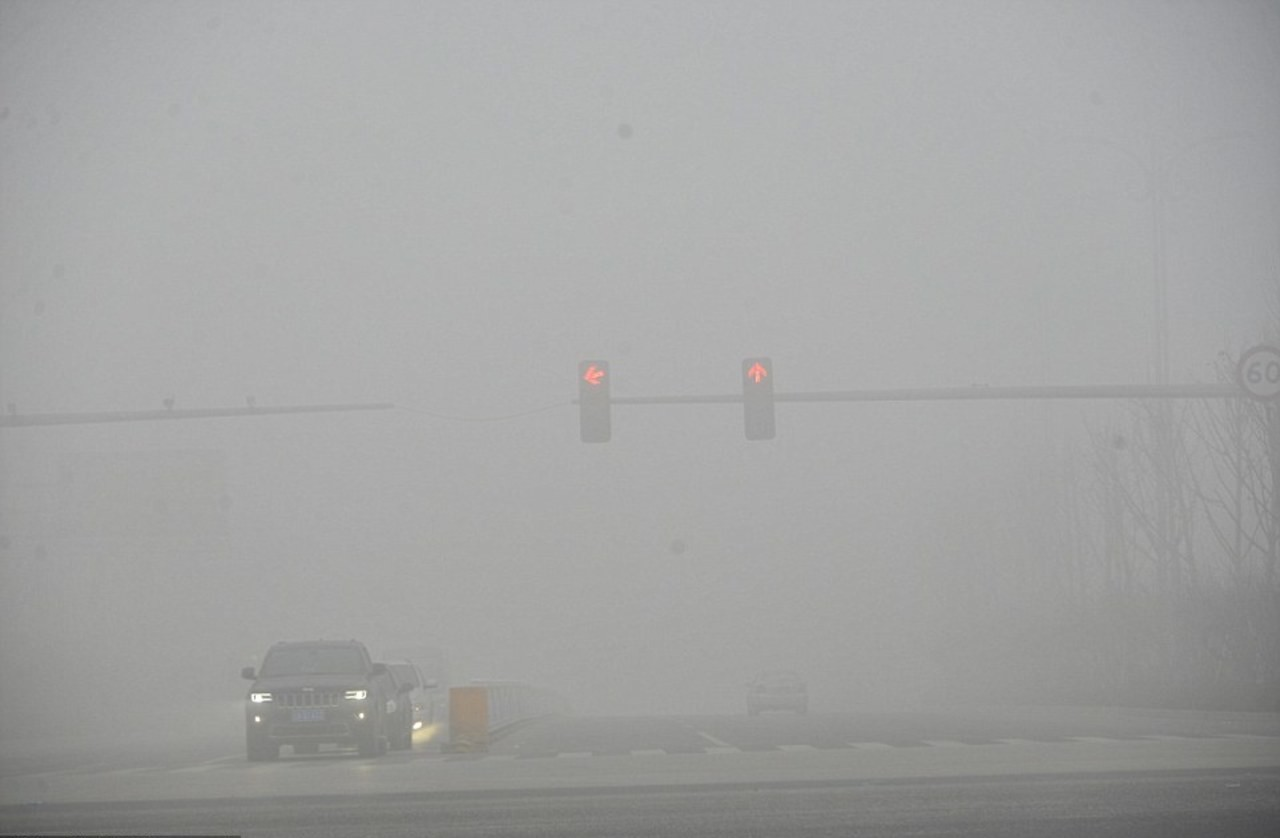car: (240, 640, 381, 757), (742, 665, 809, 715), (396, 655, 435, 737), (374, 660, 406, 751)
